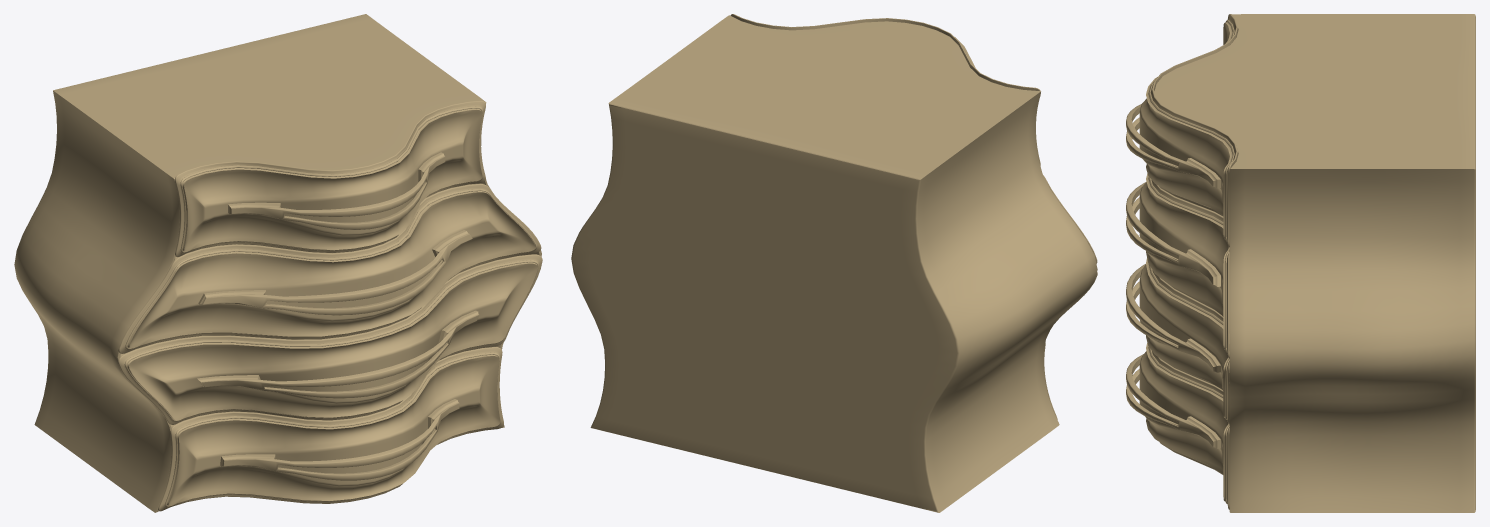
File: tymba.fbx
3 views of the same model, side by side, from view 1: azimuth 30°, elevation 25°; view 2: azimuth 150°, elevation 25°; view 3: azimuth 270°, elevation 25° (orthographic).
Visible parts, largest first — view 1: shk, dver1, dver3, dver4, dver, rych1, rych3, rych4, rych; view 2: shk, dver; view 3: shk, dver, dver1, dver4, dver3, rych1, rych3, rych4, rych.
Boxes of the visible parts, bbox=[...] form: shk: bbox=[14, 14, 541, 512]; dver1: bbox=[118, 183, 541, 353]; dver3: bbox=[118, 254, 542, 424]; dver4: bbox=[158, 347, 503, 511]; dver: bbox=[175, 100, 485, 257]; rych1: bbox=[198, 230, 472, 315]; rych3: bbox=[197, 310, 479, 398]; rych4: bbox=[220, 399, 459, 480]; rych: bbox=[228, 152, 445, 229]; shk: bbox=[571, 15, 1097, 512]; dver: bbox=[730, 14, 1040, 165]; shk: bbox=[1154, 14, 1475, 512]; dver: bbox=[1139, 14, 1237, 247]; dver1: bbox=[1139, 173, 1229, 358]; dver4: bbox=[1139, 343, 1229, 509]; dver3: bbox=[1139, 258, 1229, 424]; rych1: bbox=[1126, 182, 1220, 286]; rych3: bbox=[1126, 264, 1220, 372]; rych4: bbox=[1126, 354, 1220, 448]; rych: bbox=[1126, 104, 1220, 188].
Bounding box in the file's own units: 80.08 × 59.48 × 55.91.
